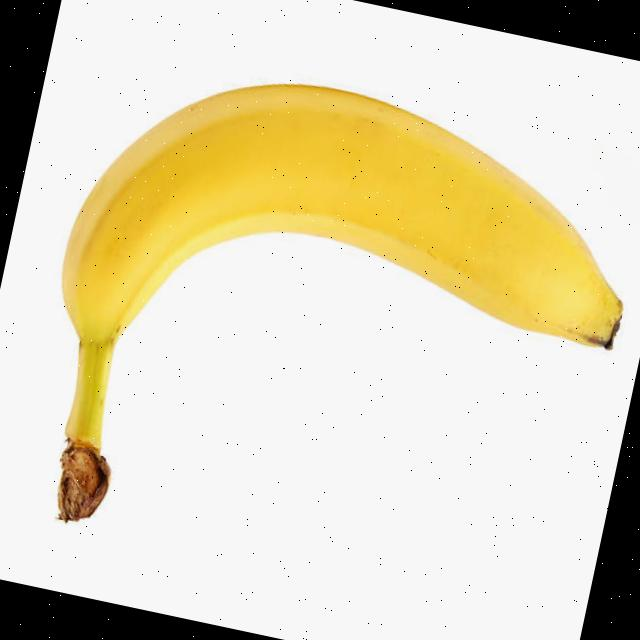Ripe: (21, 36, 640, 561)
